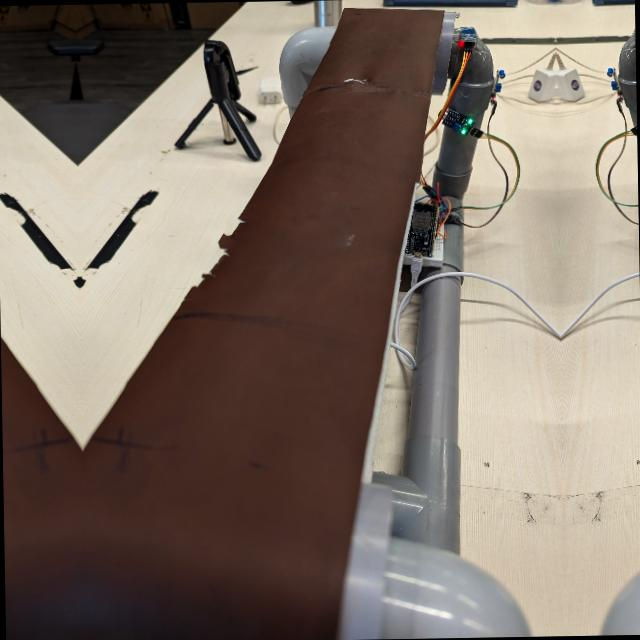edge_damage: (182, 195, 262, 300)
joint_damage: (336, 66, 379, 89)
